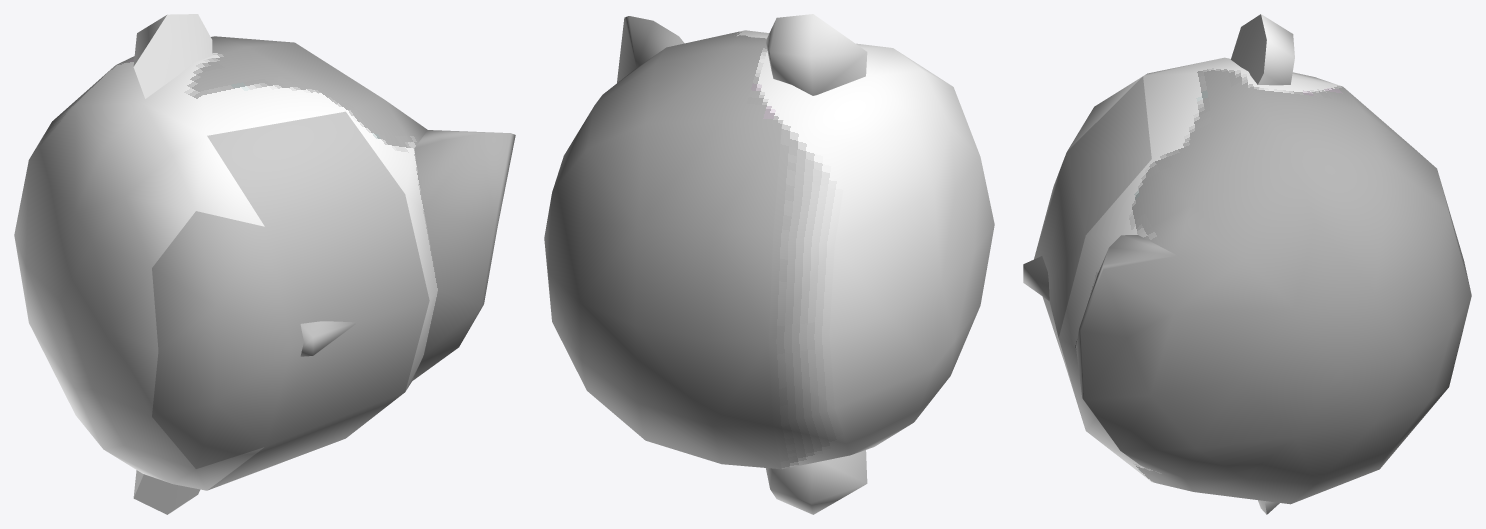
Rendered from boy01a.dae.
3 views of the same model, side by side, from view 1: azimuth 30°, elevation 25°; view 2: azimuth 150°, elevation 25°; view 3: azimuth 270°, elevation 25° (orthographic).
Visible parts, largest first — view 1: vsn_mesh_0_, vsn_mesh_1_, vsn_mesh_2_; view 2: vsn_mesh_0_; view 3: vsn_mesh_0_, vsn_mesh_1_.
Boxes of the visible parts, <box> form: vsn_mesh_0_: <box>14,14,515,514</box>; vsn_mesh_1_: <box>207,111,429,490</box>; vsn_mesh_2_: <box>152,211,291,468</box>; vsn_mesh_0_: <box>544,14,994,514</box>; vsn_mesh_0_: <box>1058,14,1471,514</box>; vsn_mesh_1_: <box>1023,76,1151,423</box>.
Size of the model in its own units: 21.57 by 26.71 by 21.96.
